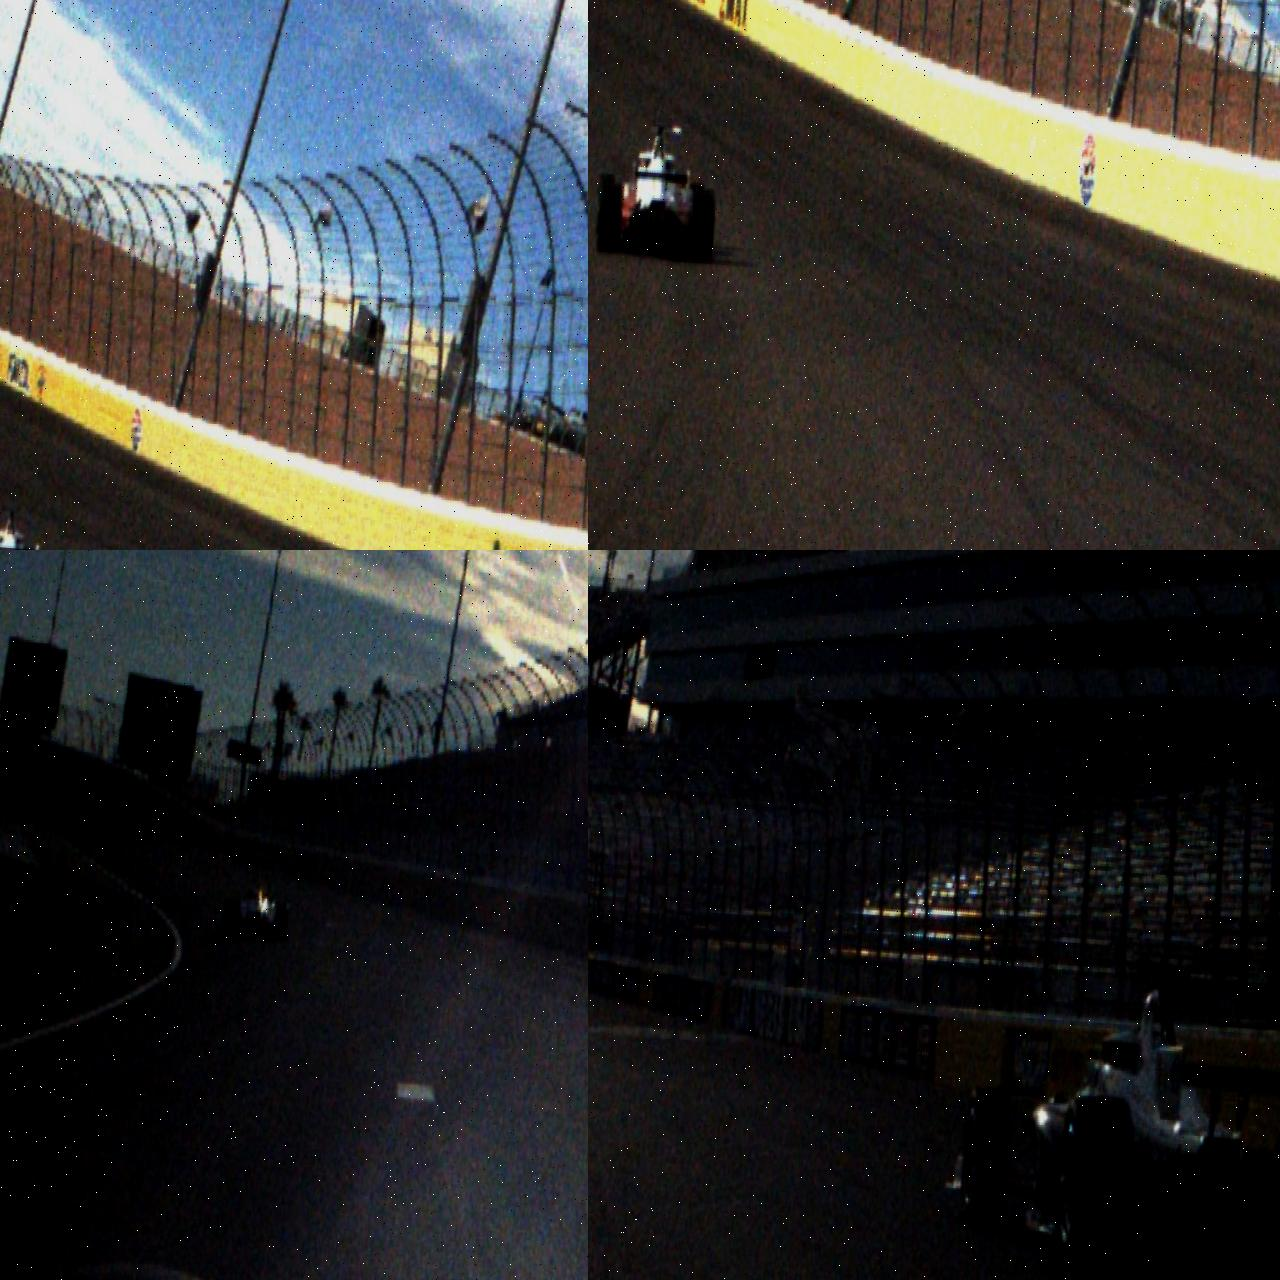AV: (937, 943, 1280, 1280), (596, 121, 720, 262), (222, 868, 293, 942), (0, 503, 64, 550)
Wheel: (1050, 1093, 1139, 1277), (957, 1084, 1017, 1230), (596, 183, 623, 254), (690, 188, 716, 261), (222, 900, 240, 939), (274, 904, 290, 942)
